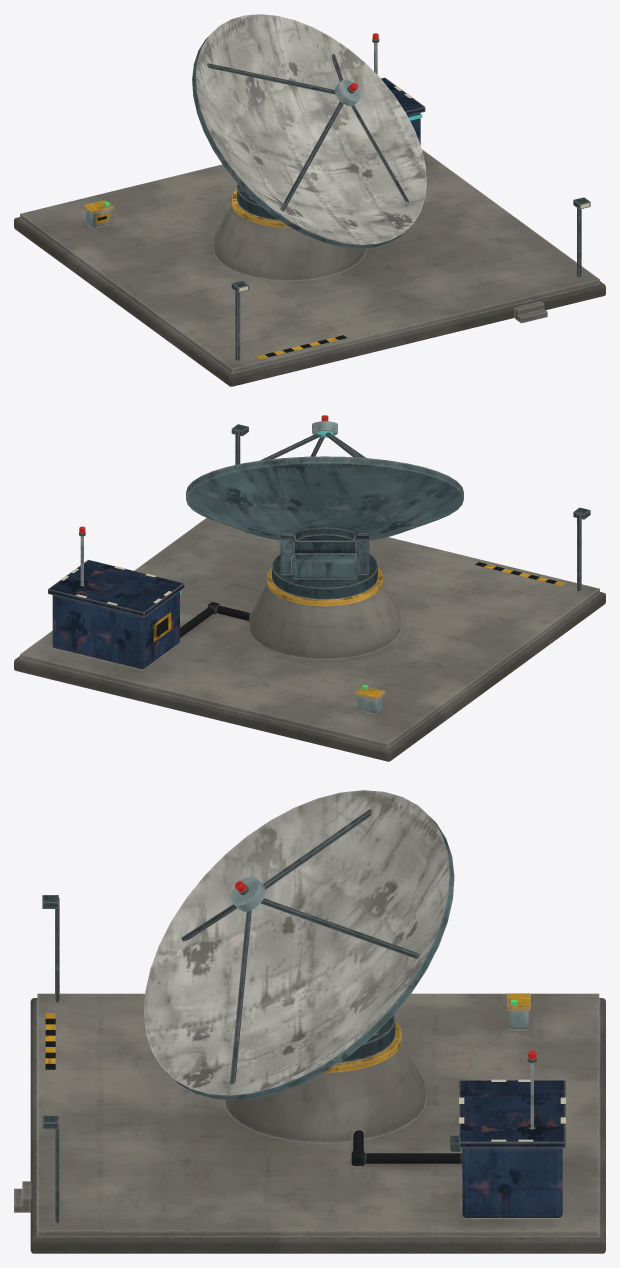
Rendered from deep_space_sensor.glb.
3 views of the same model, one above another, from view 1: azimuth 30°, elevation 25°; view 2: azimuth 150°, elevation 25°; view 3: azimuth 270°, elevation 25° (orthographic). The views are drawn at different scales.
Parts seen in each view (by area): view 1: te_deep_space_sensor, move_dish; view 2: te_deep_space_sensor, move_dish; view 3: te_deep_space_sensor, move_dish.
Boxes of the visible parts, x1=… form: te_deep_space_sensor: x1=14, y1=33, x2=605, y2=386; move_dish: x1=192, y1=14, x2=426, y2=248; te_deep_space_sensor: x1=14, y1=424, x2=605, y2=761; move_dish: x1=186, y1=415, x2=463, y2=599; te_deep_space_sensor: x1=14, y1=895, x2=605, y2=1253; move_dish: x1=144, y1=790, x2=454, y2=1100.
Size of the model in its own units: 1.72 by 0.9682 by 1.77.
Materials: 1 (1 with a texture image).
